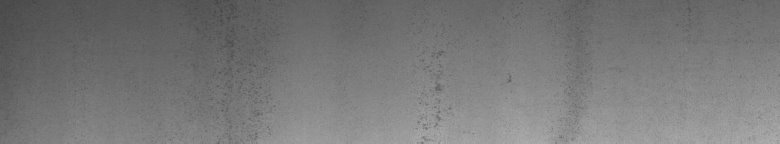ib: (415, 51, 512, 130)
